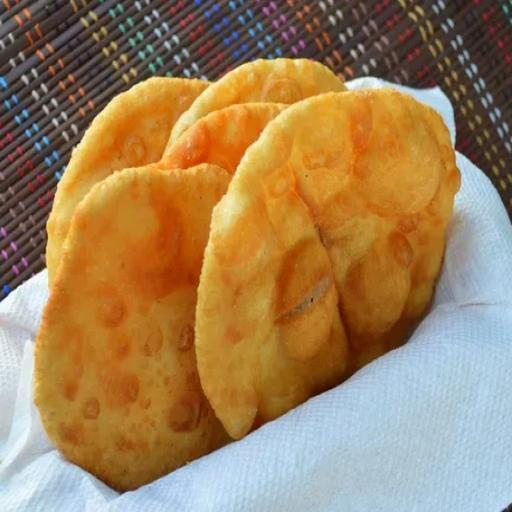bolleria: (196, 88, 460, 438), (35, 165, 230, 490), (47, 77, 208, 283), (165, 58, 346, 153), (159, 103, 287, 175)
